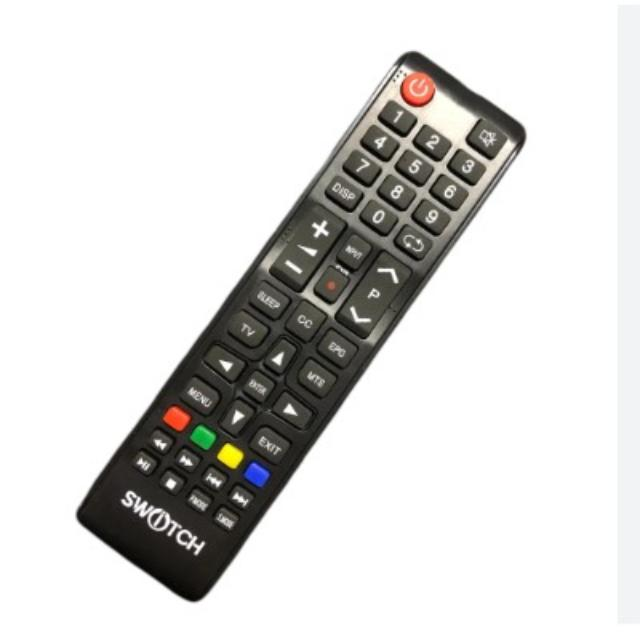TV-Remote-Control: (75, 51, 526, 605)
